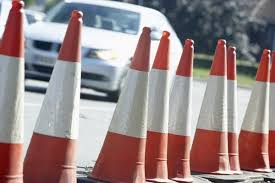car: (19, 1, 190, 100)
cone: (23, 10, 83, 183), (90, 27, 151, 183), (190, 40, 226, 177), (1, 3, 26, 183), (238, 49, 272, 172), (169, 38, 195, 183), (148, 30, 171, 183), (225, 44, 239, 174)
